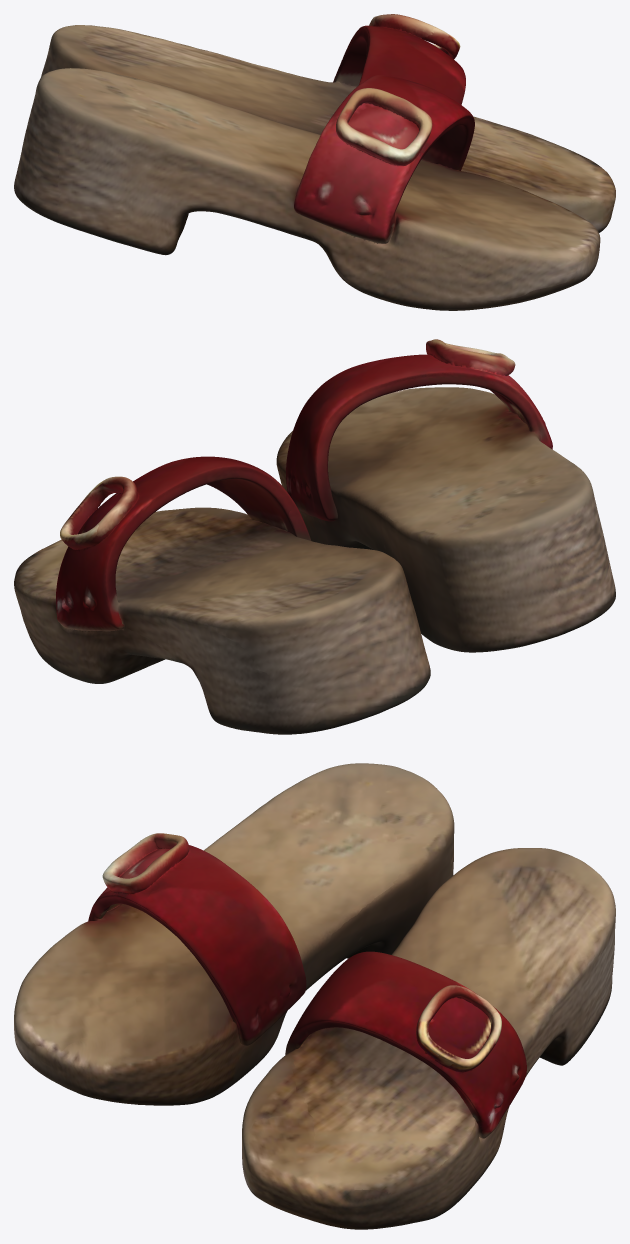
File: phu_kien_4.glb
3 views of the same model, one above another, from view 1: azimuth 30°, elevation 25°; view 2: azimuth 150°, elevation 25°; view 3: azimuth 270°, elevation 25° (orthographic). The views are drawn at different scales.
Parts seen in each view (by area): view 1: PhuKien_4; view 2: PhuKien_4; view 3: PhuKien_4.
Boxes of the visible parts, <box> form: PhuKien_4: <box>14,14,615,310</box>; PhuKien_4: <box>14,339,615,734</box>; PhuKien_4: <box>14,763,615,1229</box>.
Bounding box in the file's own units: 0.2233 × 0.1012 × 0.2144.
1 material, 1 textured.
